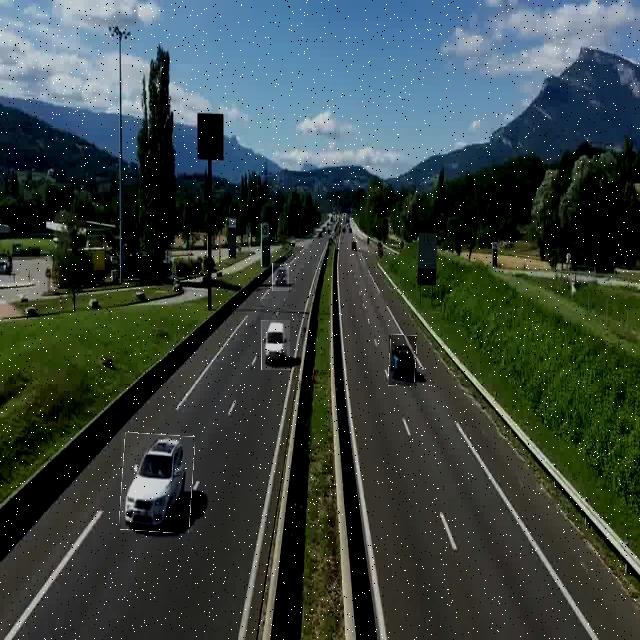Car: (121, 433, 193, 532), (261, 320, 290, 370), (389, 335, 417, 386), (272, 263, 289, 291)
